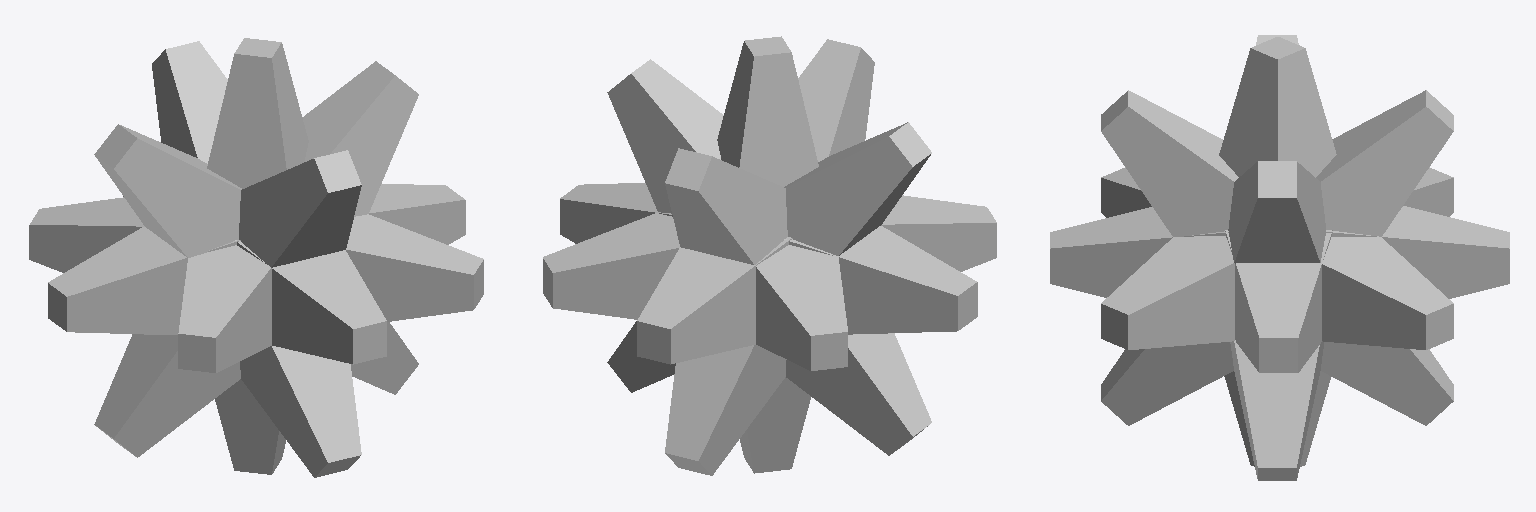
Rendered from star_fragment_low_poly_NS.obj.
3 renders of one model, left to right at view 1: azimuth 30°, elevation 25°; view 2: azimuth 150°, elevation 25°; view 3: azimuth 270°, elevation 25°, orthographic.
Parts seen in each view (by area): view 1: star_fragment; view 2: star_fragment; view 3: star_fragment.
Part boxes in pixels (x1,y1,x2,y2): star_fragment: (29,38,483,477); star_fragment: (543,36,996,475); star_fragment: (1050,35,1509,480).
Bounding box in the file's own units: 2.87 × 2.87 × 2.87.